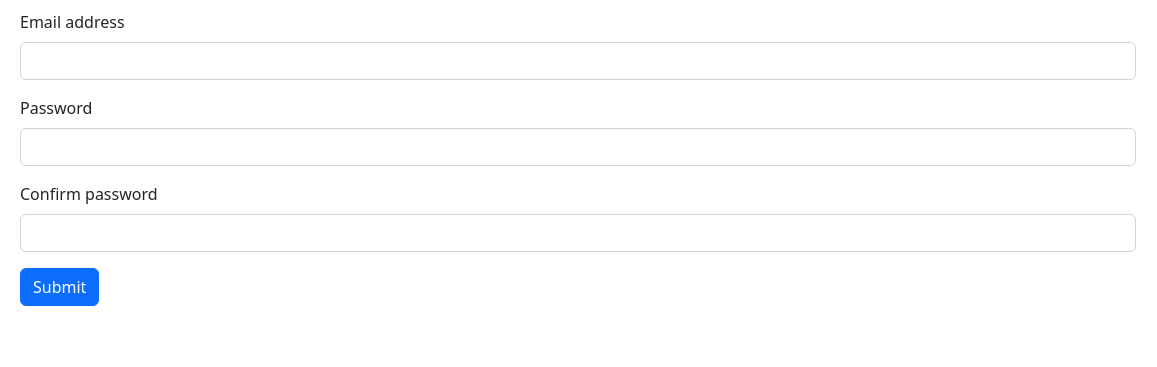
Test: App › error handling › should show error message on invalid confirm password
Step 1. Type "test@test.com" into the field labelled "Email address" → (578, 61), box [20,42,1136,80]
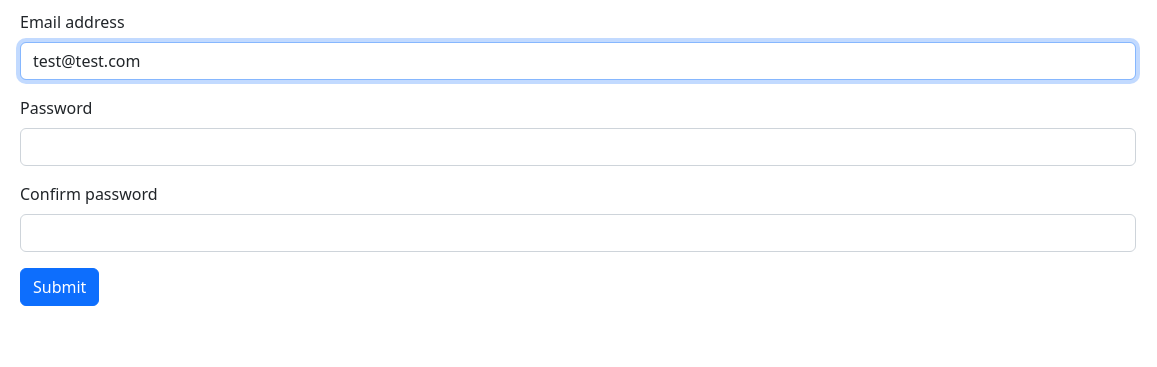
Step 2. Type "password" into the password field labelled "Password" → (578, 147), box [20,128,1136,166]
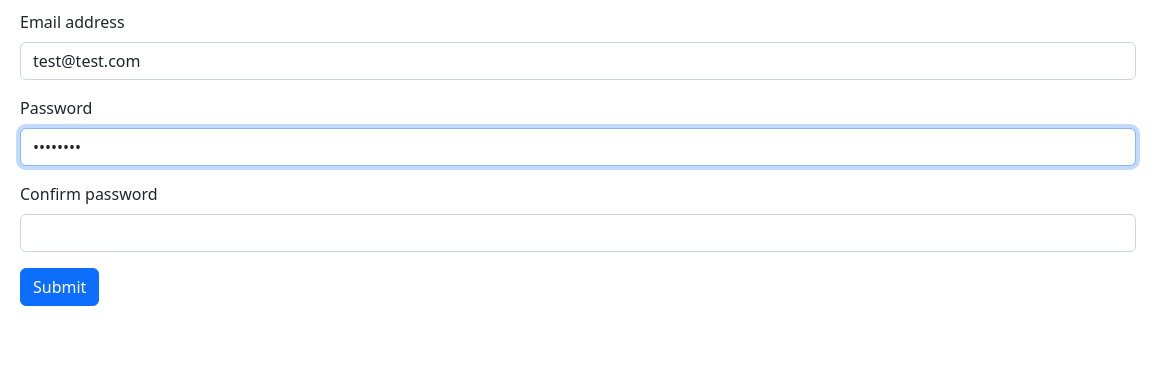
Step 3. Type "password1" into the password field labelled "Confirm password" → (578, 233), box [20,214,1136,252]
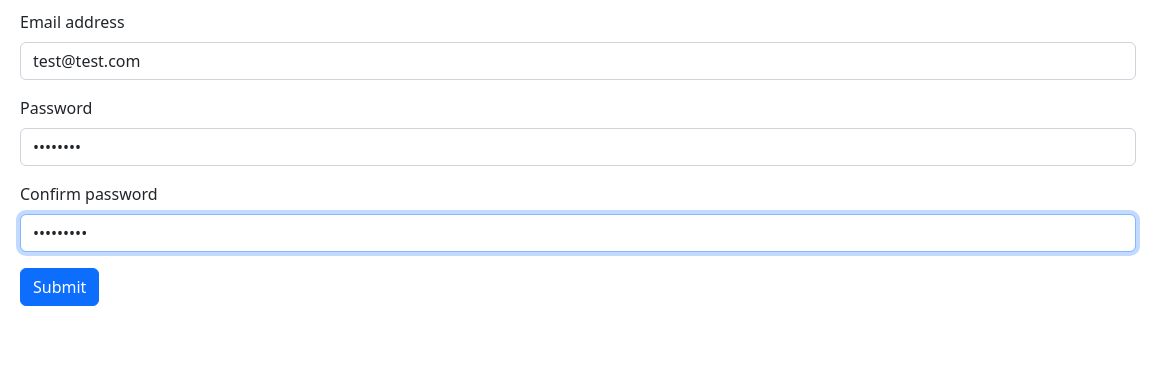
Step 4. Click the button "Submit" → (60, 287), box [20,268,99,306]
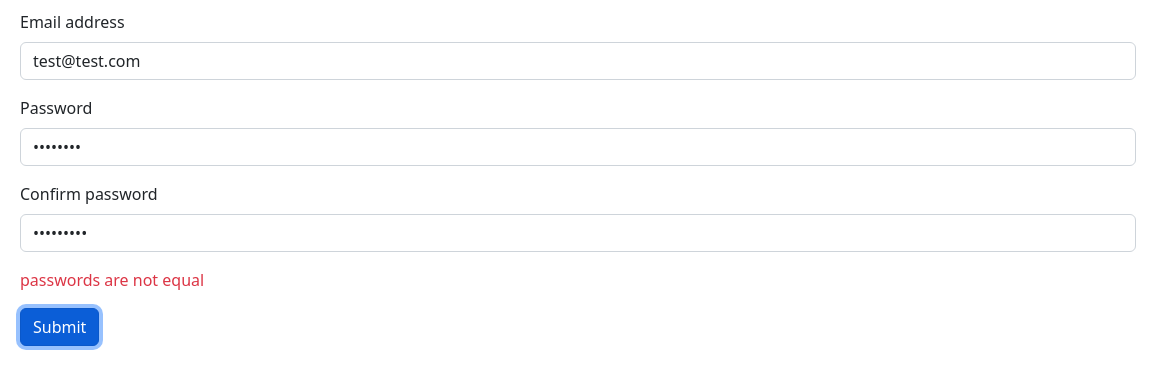
Now the text "passwords are not equal" is shown, box [20,269,204,291]
